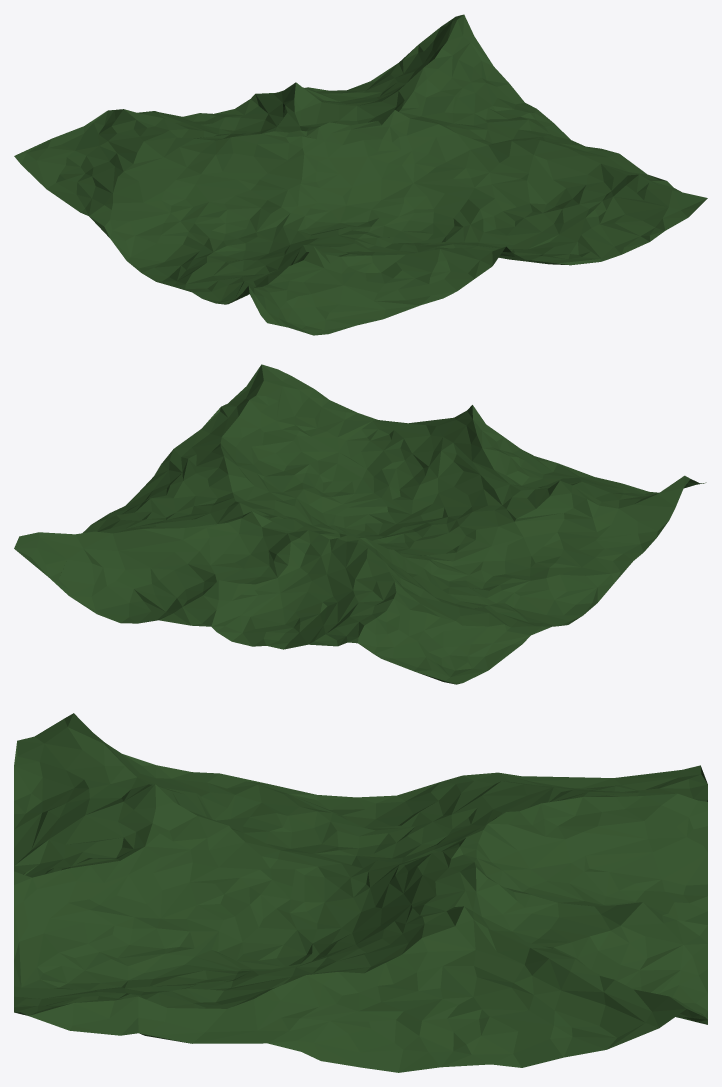
File: SM_landscape_18.fbx
3 views of the same model, one above another, from view 1: azimuth 30°, elevation 25°; view 2: azimuth 150°, elevation 25°; view 3: azimuth 270°, elevation 25° (orthographic). The views are drawn at different scales.
Visible parts, largest first — view 1: landscape_18; view 2: landscape_18; view 3: landscape_18.
Part boxes in pixels (bbox=[...]): landscape_18: bbox=[14, 14, 707, 335]; landscape_18: bbox=[14, 364, 706, 684]; landscape_18: bbox=[14, 713, 707, 1072].
Bounding box in the file's own units: 2224 × 313 × 2224.
